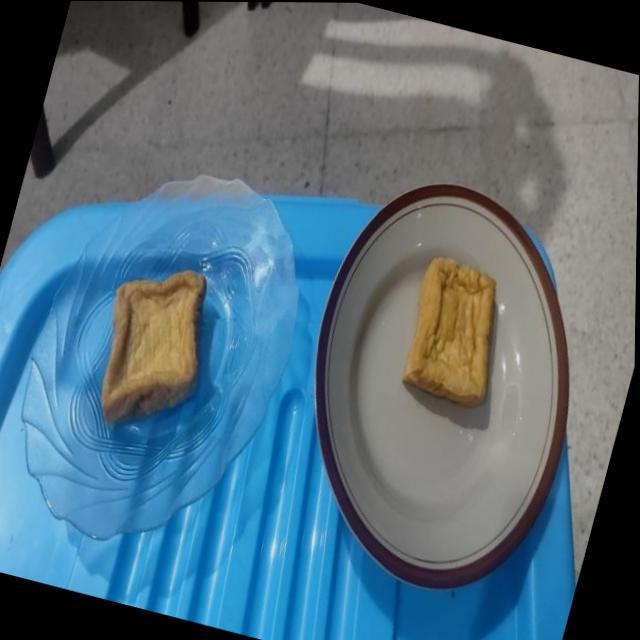tahu_goreng: (101, 270, 206, 424), (402, 257, 495, 406)
